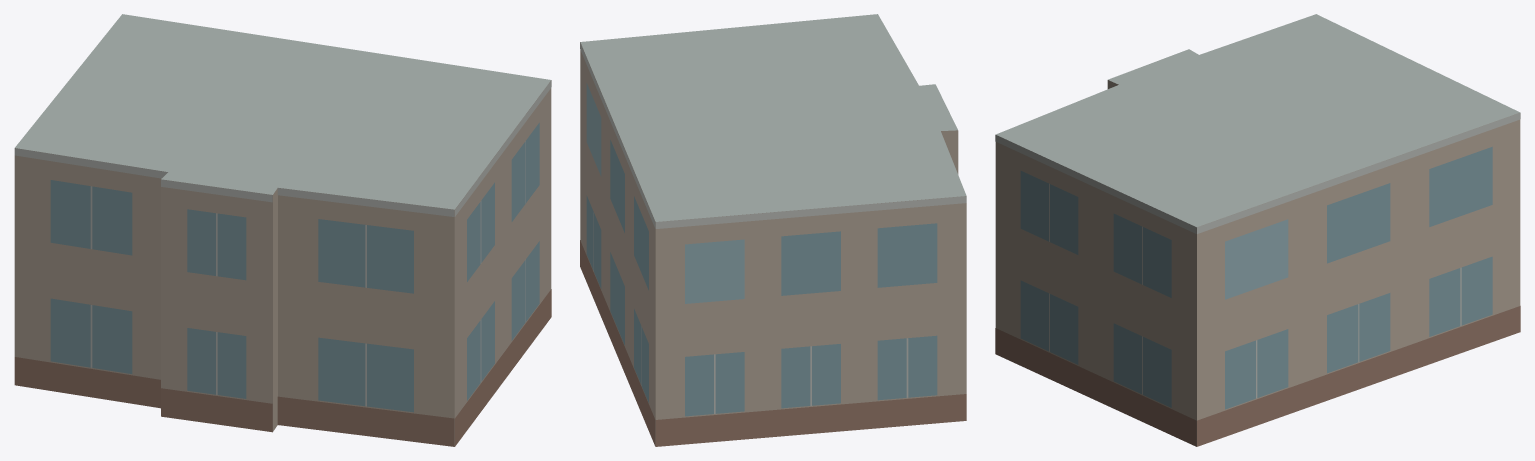
The model's file is survey-upis-32635198.glb.
3 renders of one model, left to right at view 1: azimuth 30°, elevation 25°; view 2: azimuth 150°, elevation 25°; view 3: azimuth 270°, elevation 25°, orthographic. The views are drawn at different scales.
Visible parts, largest first — view 1: survey-upis-32635198.tmp; view 2: survey-upis-32635198.tmp; view 3: survey-upis-32635198.tmp.
Part boxes in pixels (left/top/right/bottom): survey-upis-32635198.tmp: left=14, top=14, right=551, bottom=446; survey-upis-32635198.tmp: left=580, top=14, right=966, bottom=446; survey-upis-32635198.tmp: left=995, top=14, right=1520, bottom=446.
Size of the model in its own units: 16.05 by 7.7 by 16.69.
